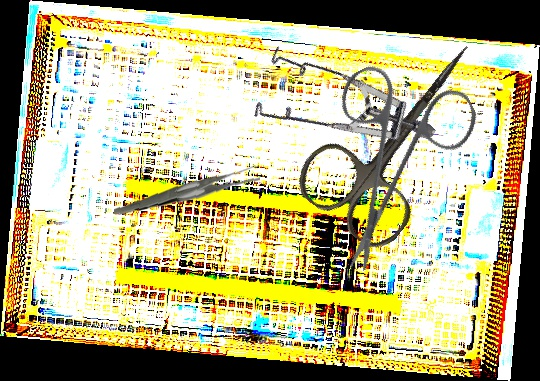Dressing Forceps: (113, 158, 261, 222)
Iris Scissors: (273, 32, 517, 275), (287, 11, 516, 258)
Speculum: (230, 4, 438, 217)
